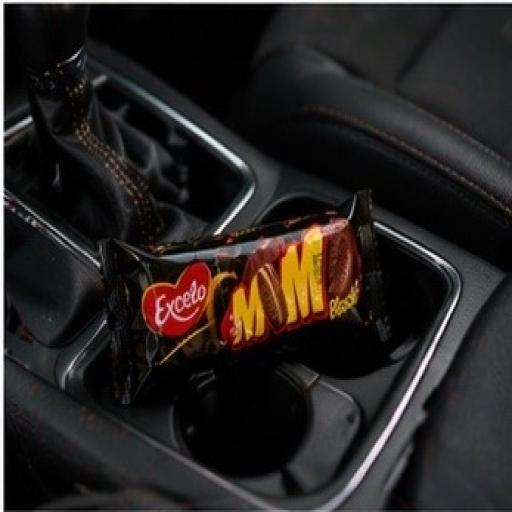MOMO: (82, 159, 424, 421)
